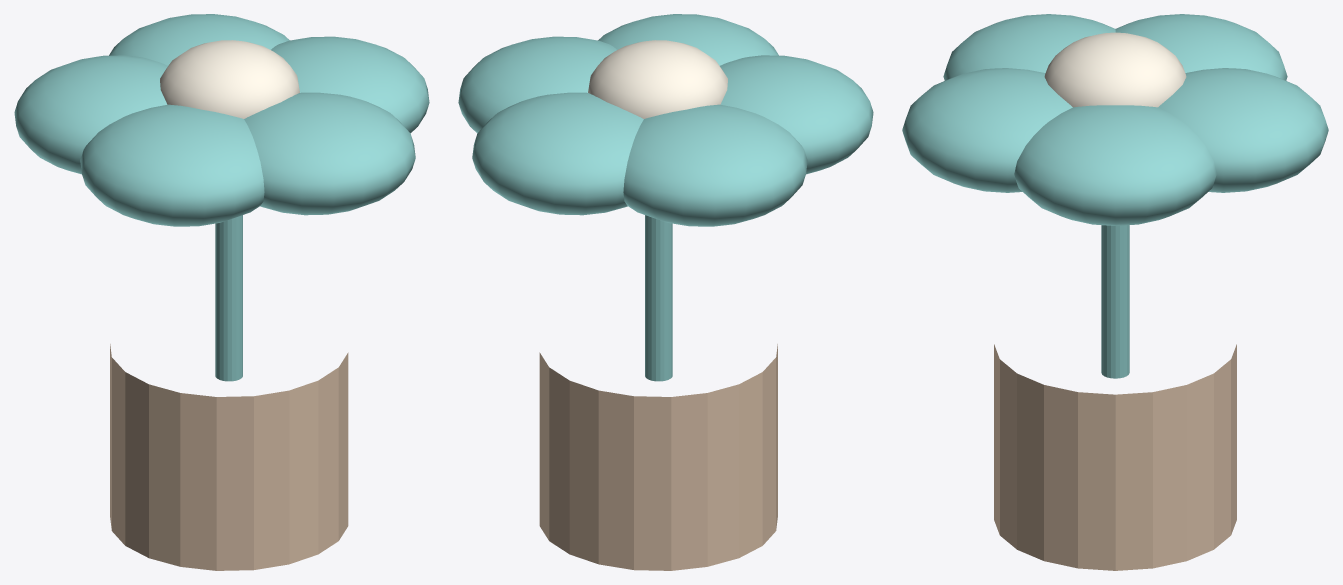
File: plant-fern.glb
The picture shows the model from 3 angles, left to right: view 1: azimuth 30°, elevation 25°; view 2: azimuth 150°, elevation 25°; view 3: azimuth 270°, elevation 25°; orthographic projection.
Visible parts, largest first — view 1: pot, petal2, petal1, petal3, petal0, center, petal4, stem; view 2: pot, petal3, petal4, petal2, petal0, center, petal1, stem; view 3: pot, petal0, petal1, petal4, center, petal2, petal3, stem.
Boxes of the visible parts, x1,y1,x2,y2 form: pot: (110,344,348,570); petal2: (80,104,264,226); petal1: (244,92,415,215); petal3: (14,55,167,174); petal0: (271,36,429,133); center: (160,40,299,118); petal4: (109,14,289,65); stem: (215,215,242,381); pot: (539,344,777,570); petal3: (623,104,807,226); petal4: (472,92,643,215); petal2: (720,55,873,174); petal0: (458,36,616,133); center: (588,40,727,118); petal1: (598,14,778,65); stem: (645,215,672,381); pot: (994,344,1236,570); petal0: (1014,105,1216,225); petal1: (902,68,1072,192); petal4: (1158,68,1328,192); center: (1044,32,1186,107); petal2: (943,14,1115,80); petal3: (1115,14,1287,80); stem: (1101,225,1129,378).
Bounding box in the file's own units: 0.5133 × 0.65 × 0.5263.
